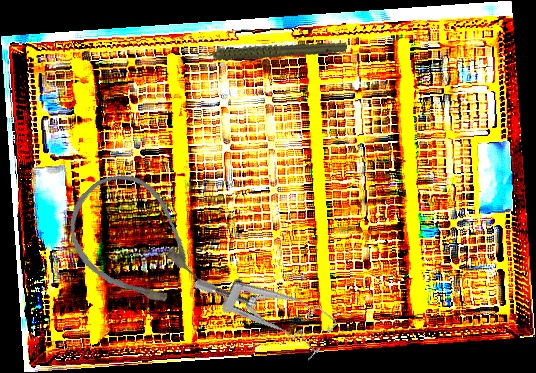Cannula: (48, 156, 222, 332)
Handpiece: (190, 12, 348, 86)
Speculum: (191, 238, 341, 372)
